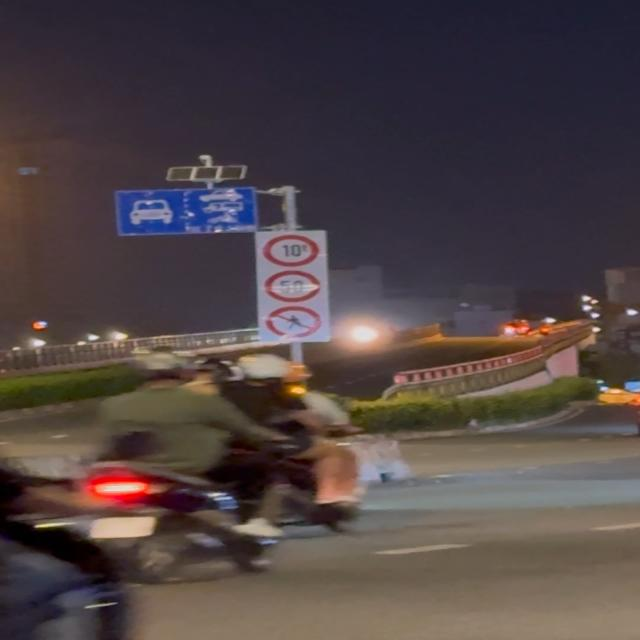Bien bao cam nguoi di bo: (266, 304, 326, 338)
Bien bao toc do toi da cho phep: (260, 268, 325, 303)
